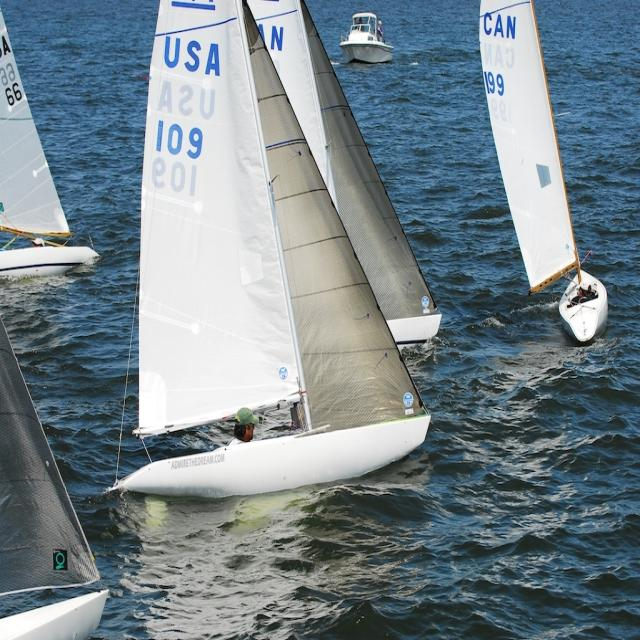Boat: (105, 0, 433, 502), (246, 0, 444, 341), (482, 0, 607, 347), (0, 315, 108, 639), (0, 49, 82, 290), (339, 9, 394, 61)
